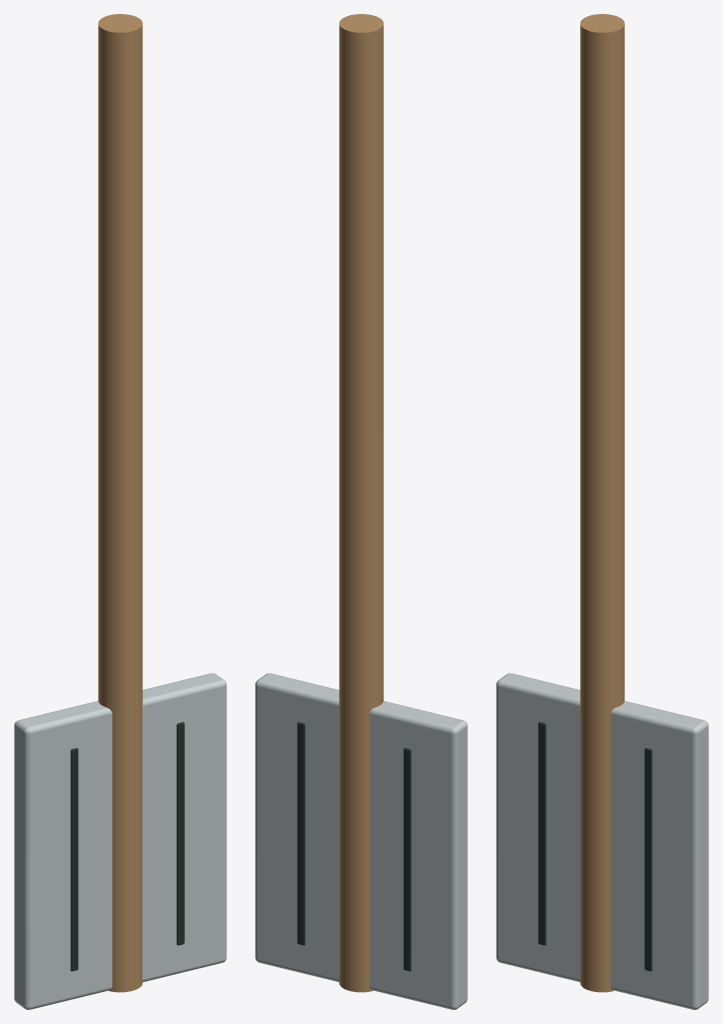
File: mushroom-farm-and-grow-rooms-mixing-paddle-279d459e__30807.glb
3 renders of one model, left to right at view 1: azimuth 30°, elevation 25°; view 2: azimuth 150°, elevation 25°; view 3: azimuth 330°, elevation 25°, orthographic.
Visible parts, largest first — view 1: mixing-paddle; view 2: mixing-paddle; view 3: mixing-paddle.
Part boxes in pixels (x1,y1,x2,y2): mixing-paddle: (14,14,226,1009); mixing-paddle: (255,14,467,1009); mixing-paddle: (496,14,708,1009).
Bounding box in the file's own units: 0.21 × 0.95 × 0.04.
